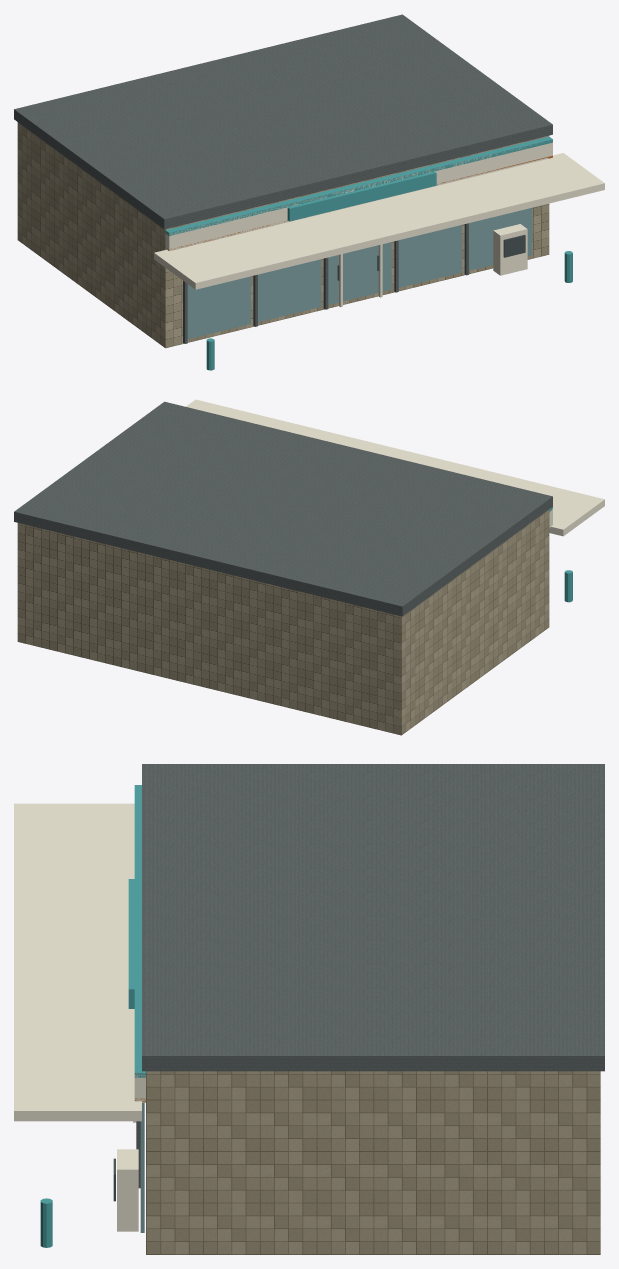
Rendered from tw_convenience.glb.
3 views of the same model, one above another, from view 1: azimuth 30°, elevation 25°; view 2: azimuth 150°, elevation 25°; view 3: azimuth 270°, elevation 25° (orthographic). The views are drawn at different scales.
Visible parts, largest first — view 1: GalvanizedMetal, PaintedCream, TiledMasonry, OpaqueStoreGlazing, FictionalShopAccent; view 2: TiledMasonry, GalvanizedMetal, PaintedCream; view 3: GalvanizedMetal, TiledMasonry, PaintedCream, FictionalShopAccent.
Part boxes in pixels (x1=…): GalvanizedMetal: x1=14, y1=14, x2=552, y2=343; PaintedCream: x1=154, y1=140, x2=604, y2=307; TiledMasonry: x1=17, y1=122, x2=549, y2=348; OpaqueStoreGlazing: x1=187, y1=208, x2=532, y2=339; FictionalShopAccent: x1=165, y1=136, x2=572, y2=370; TiledMasonry: x1=17, y1=509, x2=549, y2=735; GalvanizedMetal: x1=14, y1=401, x2=552, y2=616; PaintedCream: x1=186, y1=399, x2=604, y2=536; GalvanizedMetal: x1=136, y1=764, x2=604, y2=1188; TiledMasonry: x1=146, y1=1071, x2=600, y2=1254; PaintedCream: x1=14, y1=803, x2=145, y2=1231; FictionalShopAccent: x1=40, y1=785, x2=145, y2=1247.
Size of the model in its own units: 12.8 by 3.9 by 10.4.
7 materials, 3 textured.
